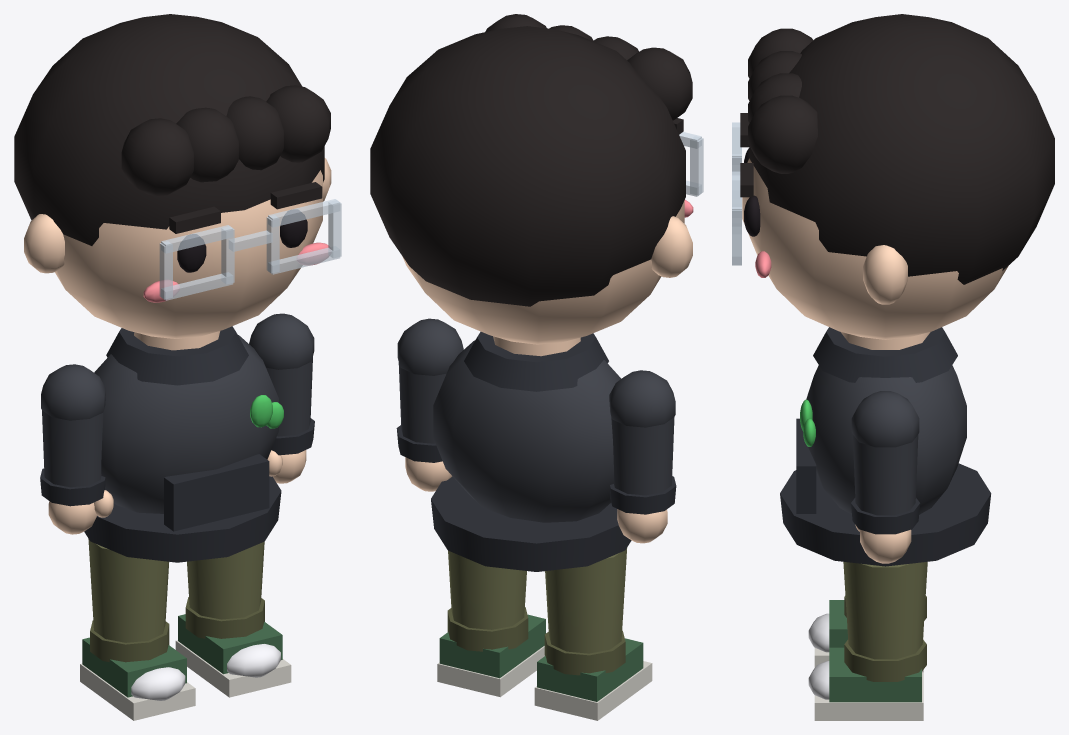
File: boy_chibi.glb
The picture shows the model from 3 angles, left to right: view 1: azimuth 30°, elevation 25°; view 2: azimuth 150°, elevation 25°; view 3: azimuth 270°, elevation 25°; orthographic projection.
Parts seen in each view (by area): view 1: _MeshInstance3D_46, _MeshInstance3D_39, _MeshInstance3D_20, _MeshInstance3D_21, _MeshInstance3D_5, _MeshInstance3D_23, _MeshInstance3D_22, _MeshInstance3D_13, _MeshInstance3D_47, _MeshInstance3D_28, _MeshInstance3D_50, _MeshInstance3D_48 (+33 smaller); view 2: _MeshInstance3D_46, _MeshInstance3D_20, _MeshInstance3D_21, _MeshInstance3D_39, _MeshInstance3D_5, _MeshInstance3D_22, _MeshInstance3D_13, _MeshInstance3D_28, _MeshInstance3D_27, _MeshInstance3D_33, _MeshInstance3D_8, _MeshInstance3D_16 (+14 smaller); view 3: _MeshInstance3D_46, _MeshInstance3D_39, _MeshInstance3D_20, _MeshInstance3D_21, _MeshInstance3D_13, _MeshInstance3D_22, _MeshInstance3D_50, _MeshInstance3D_34, _MeshInstance3D_33, _MeshInstance3D_16, _MeshInstance3D_15, _MeshInstance3D_41 (+13 smaller).
Part boxes in pixels (x1=…): _MeshInstance3D_46: x1=14, y1=14, x2=324, y2=245; _MeshInstance3D_39: x1=55, y1=170, x2=322, y2=338; _MeshInstance3D_20: x1=94, y1=335, x2=278, y2=513; _MeshInstance3D_21: x1=84, y1=476, x2=281, y2=562; _MeshInstance3D_5: x1=88, y1=539, x2=169, y2=642; _MeshInstance3D_23: x1=164, y1=454, x2=269, y2=531; _MeshInstance3D_22: x1=106, y1=326, x2=248, y2=385; _MeshInstance3D_13: x1=187, y1=541, x2=264, y2=619; _MeshInstance3D_47: x1=121, y1=118, x2=193, y2=195; _MeshInstance3D_28: x1=42, y1=410, x2=103, y2=487; _MeshInstance3D_50: x1=266, y1=85, x2=330, y2=162; _MeshInstance3D_48: x1=176, y1=107, x2=238, y2=182; _MeshInstance3D_46: x1=370, y1=26, x2=685, y2=306; _MeshInstance3D_20: x1=433, y1=340, x2=621, y2=522; _MeshInstance3D_21: x1=431, y1=476, x2=631, y2=571; _MeshInstance3D_39: x1=402, y1=200, x2=684, y2=344; _MeshInstance3D_5: x1=545, y1=547, x2=627, y2=653; _MeshInstance3D_22: x1=464, y1=331, x2=608, y2=391; _MeshInstance3D_13: x1=448, y1=550, x2=526, y2=629; _MeshInstance3D_28: x1=611, y1=417, x2=674, y2=495; _MeshInstance3D_27: x1=609, y1=370, x2=675, y2=427; _MeshInstance3D_33: x1=397, y1=318, x2=463, y2=375; _MeshInstance3D_8: x1=537, y1=638, x2=643, y2=701; _MeshInstance3D_16: x1=439, y1=614, x2=545, y2=678; _MeshInstance3D_46: x1=749, y1=14, x2=1054, y2=284; _MeshInstance3D_39: x1=742, y1=158, x2=1008, y2=339; _MeshInstance3D_20: x1=806, y1=365, x2=966, y2=514; _MeshInstance3D_21: x1=780, y1=463, x2=991, y2=566; _MeshInstance3D_13: x1=843, y1=561, x2=927, y2=659; _MeshInstance3D_22: x1=813, y1=327, x2=957, y2=382; _MeshInstance3D_50: x1=748, y1=95, x2=817, y2=173; _MeshInstance3D_34: x1=852, y1=434, x2=918, y2=515; _MeshInstance3D_33: x1=851, y1=391, x2=919, y2=447; _MeshInstance3D_16: x1=829, y1=647, x2=921, y2=702; _MeshInstance3D_15: x1=814, y1=672, x2=923, y2=720; _MeshInstance3D_41: x1=863, y1=245, x2=907, y2=304.
Size of the model in its own units: 1.07 by 2.18 by 0.9779.
